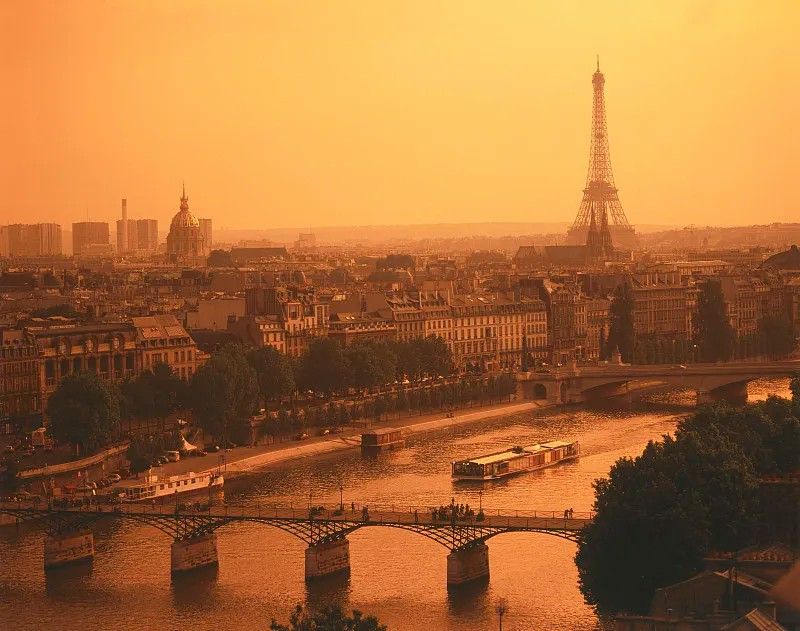Eiffel: (564, 54, 635, 248)
